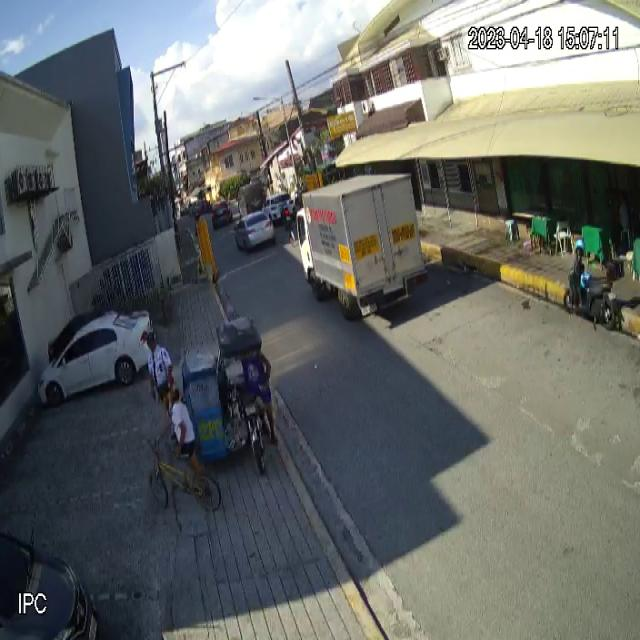Car: (37, 312, 154, 406)
Motorcycle: (564, 249, 621, 331)
Tricycle: (182, 314, 266, 477)
Truck: (290, 173, 428, 320)
